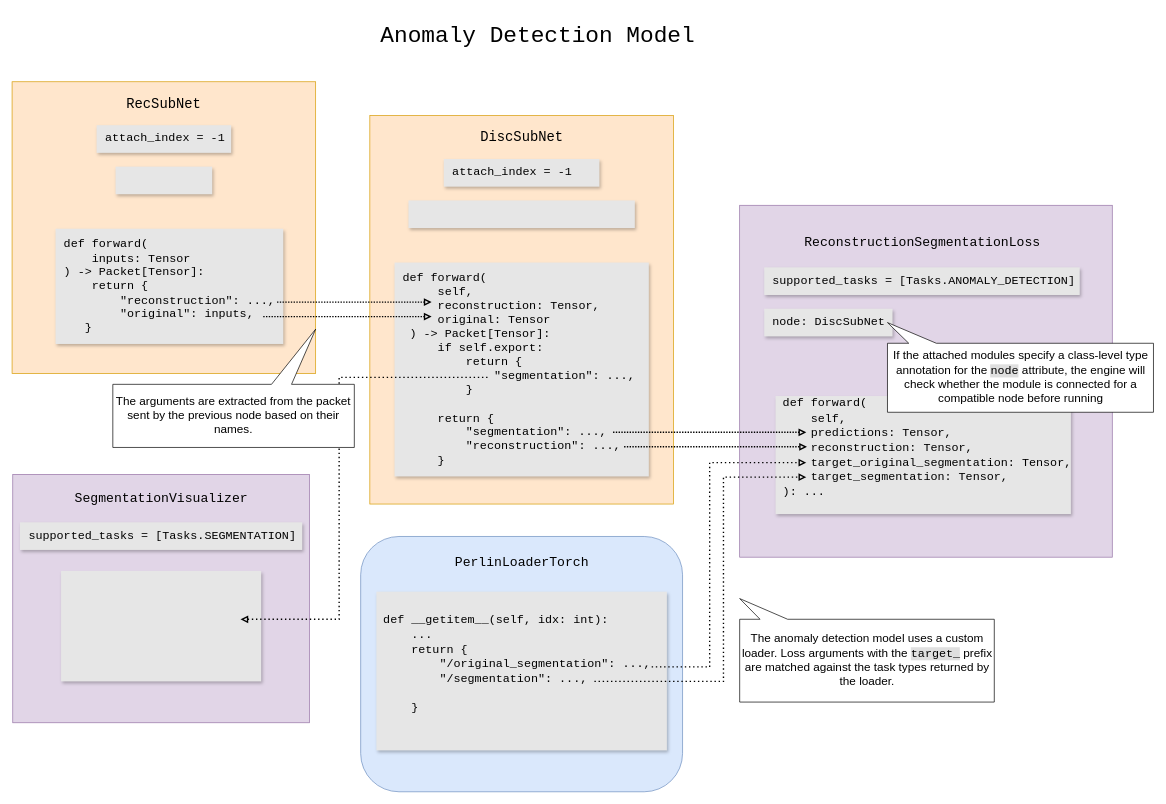
This 1166x804 diagram has some shape labels left out. The shapes that lost their labels are listed below. From the top down, each one's centre as x and y in pixels, then its label:
At (164,181): "task = None".
At (522,215): "task = Tasks.ANOMALY_DETECTION".
At (161,627): "def forward( self, predictions: Tensor, targets: Tensor, ): ...".
